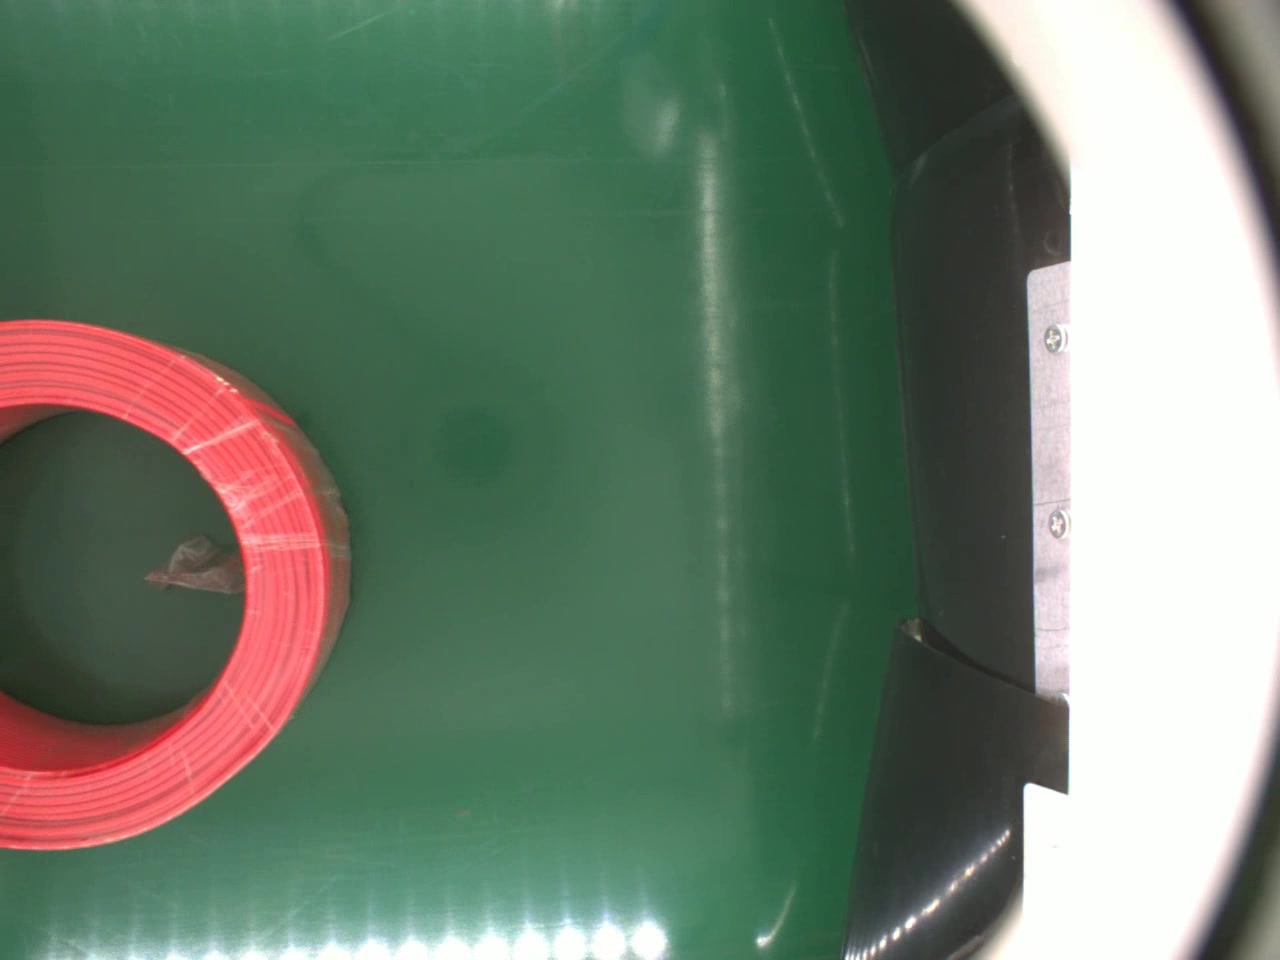red: (0, 315, 344, 853)
